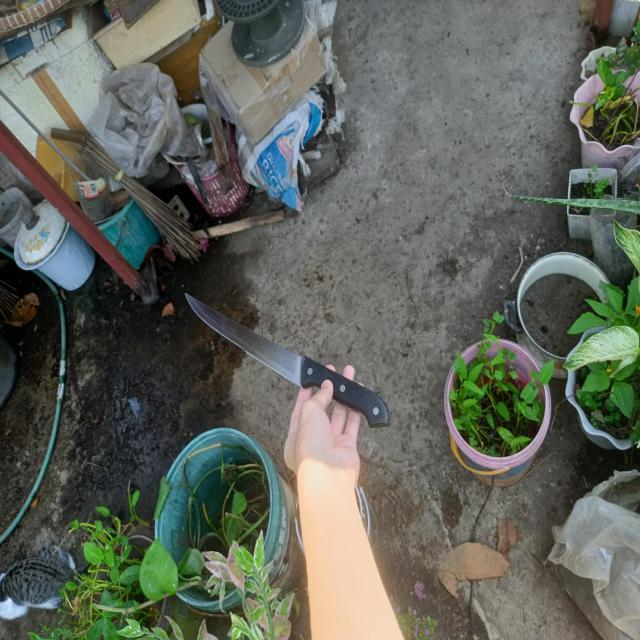knife: (185, 294, 390, 427)
